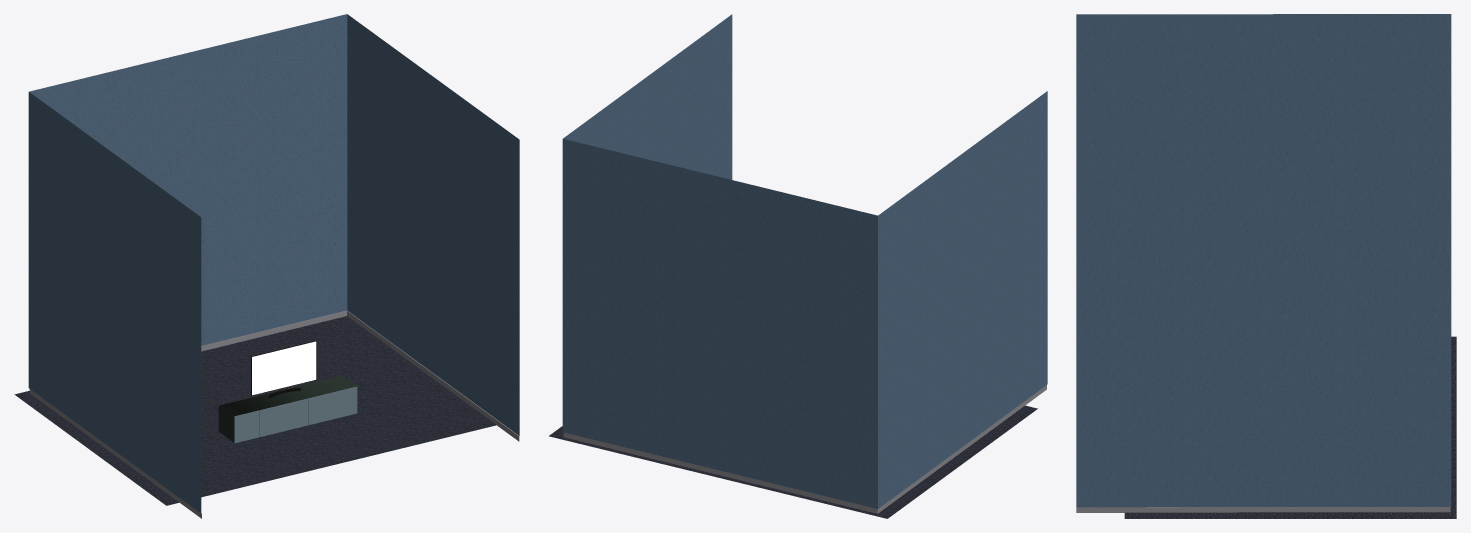
3 views of the same model, side by side, from view 1: azimuth 30°, elevation 25°; view 2: azimuth 150°, elevation 25°; view 3: azimuth 270°, elevation 25° (orthographic). The views are drawn at different scales.
Visible parts, largest first — view 1: Walls, Floor, Screen, Table, Table_Door_05, Table_Door_01, Table_Door_04, Table_Door_02, Table_Door_03; view 2: Walls, Floor; view 3: Walls, Floor.
Part boxes in pixels (x1,y1,x2,y2): Walls: (28,14,519,518); Floor: (14,316,496,505); Screen: (252,341,316,395); Table: (218,375,357,442); Table_Door_05: (332,386,357,419); Table_Door_01: (234,410,258,443); Table_Door_04: (308,392,332,425); Table_Door_02: (259,404,283,437); Table_Door_03: (283,398,307,431); Walls: (562,14,1047,513); Floor: (549,405,1037,518); Walls: (1076,14,1451,512); Floor: (1124,336,1456,518).
Size of the model in its own units: 7.46 by 6.28 by 6.58.
Materials: 8 (2 with a texture image).
